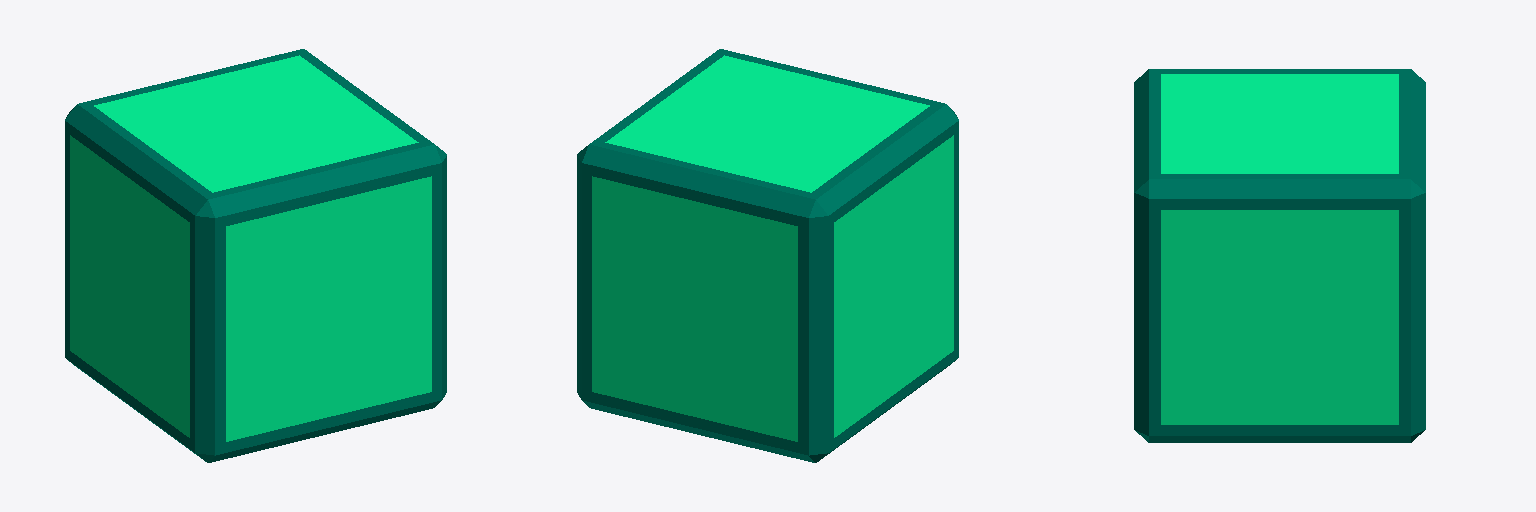
File: fig7_cub_cyan.obj
3 renders of one model, left to right at view 1: azimuth 30°, elevation 25°; view 2: azimuth 150°, elevation 25°; view 3: azimuth 270°, elevation 25°, orthographic.
Parts seen in each view (by area): view 1: Cube; view 2: Cube; view 3: Cube.
Part boxes in pixels (left/top/right/bottom): Cube: left=65, top=49, right=446, bottom=462; Cube: left=577, top=49, right=958, bottom=462; Cube: left=1134, top=69, right=1425, bottom=442.
Bounding box in the file's own units: 2 × 2 × 2.